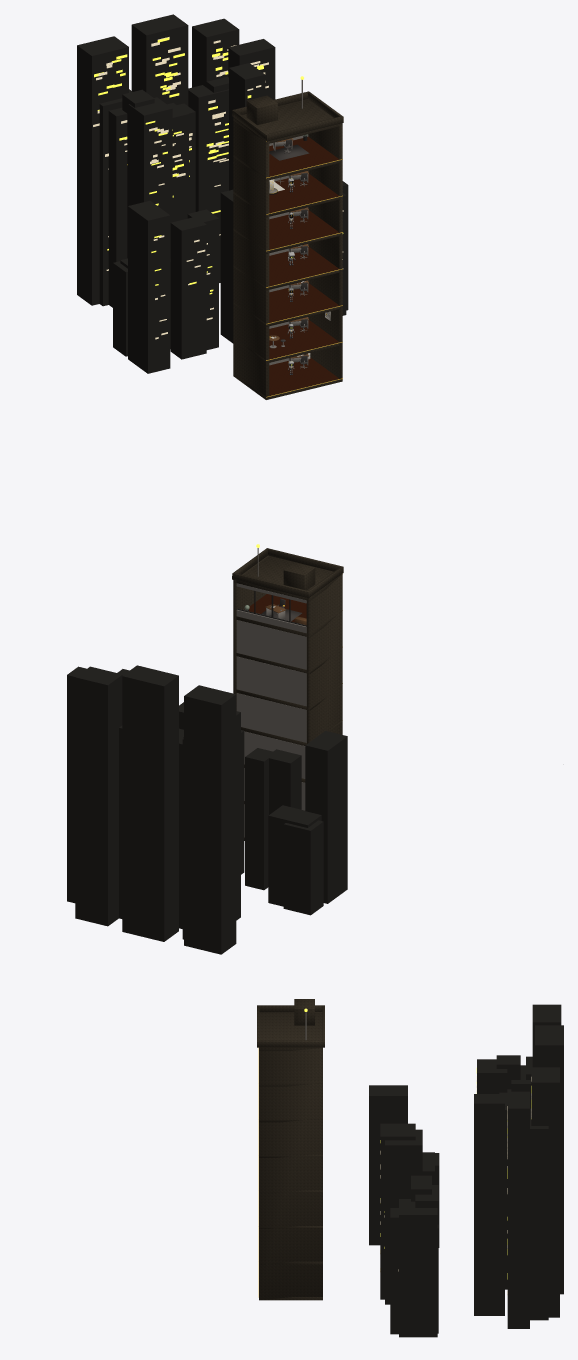
The model's file is mobile.glb.
3 views of the same model, one above another, from view 1: azimuth 30°, elevation 25°; view 2: azimuth 150°, elevation 25°; view 3: azimuth 270°, elevation 25° (orthographic). The views are drawn at different scales.
Visible parts, largest first — view 1: tower; view 2: tower; view 3: tower.
Part boxes in pixels (bbox=[...]): tower: bbox=[77, 14, 348, 399]; tower: bbox=[67, 544, 347, 954]; tower: bbox=[257, 999, 563, 1337].
Size of the model in its own units: 23.01 by 23.94 by 42.01.
41 materials, 7 textured.
